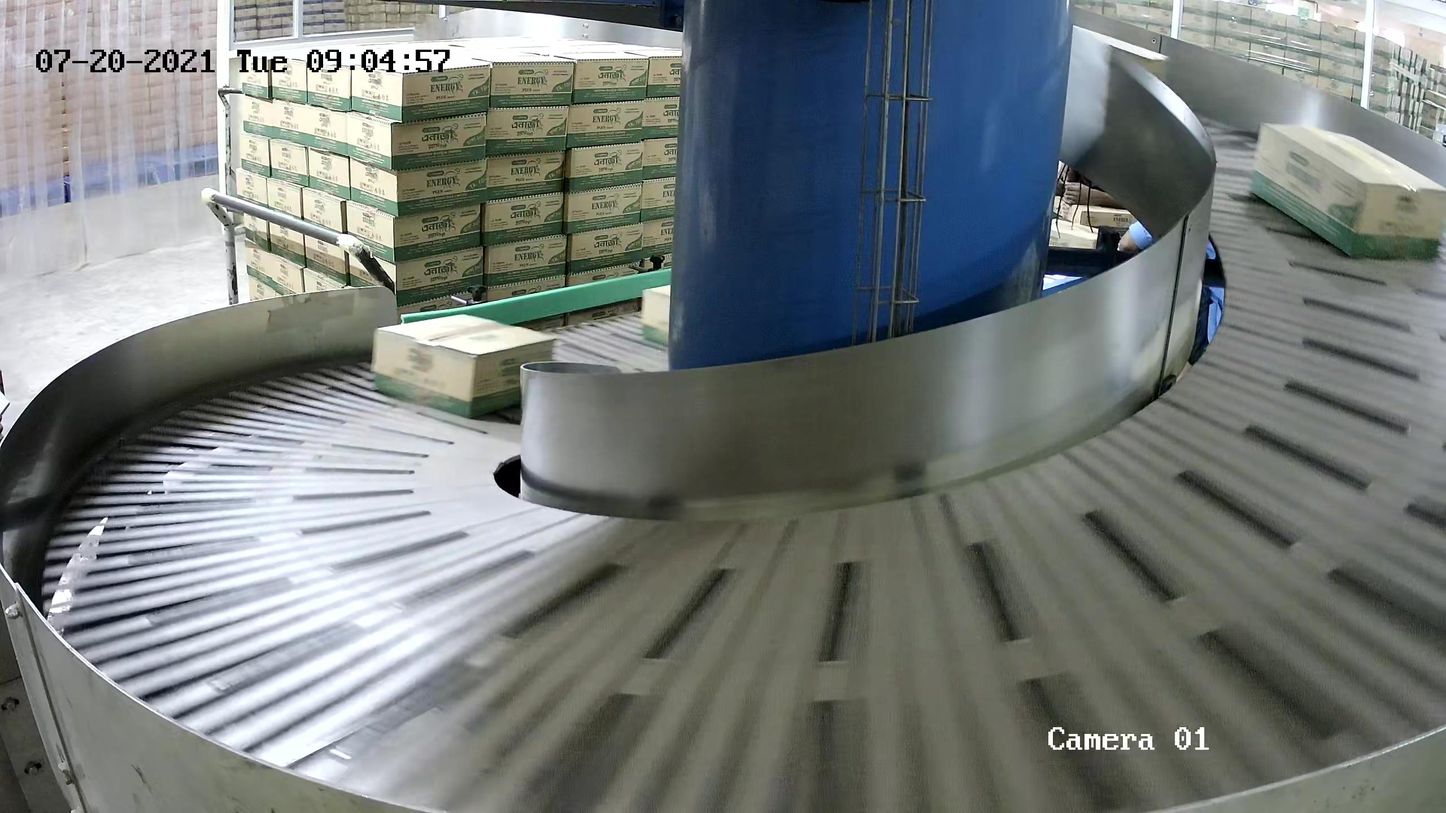Box: (1246, 121, 1446, 259), (371, 313, 557, 419), (640, 284, 671, 348)
